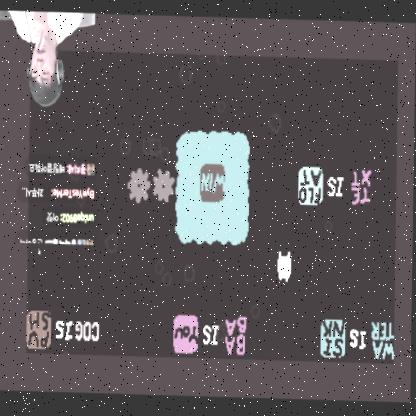streamer: (5, 11, 82, 111)
